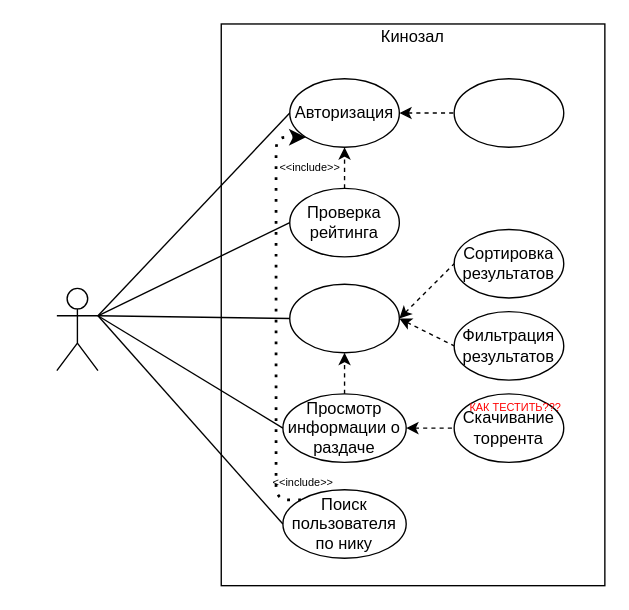
Image size: 629x610. Some labels were removed from this diagram. The shapes that lost their labels are listed below. From the top down, each one's centre as x and y in pixels, then its label:
[508,112]: Сообщение об ошибке
[76,329]: Пользователь
[343,318]: Поиск раздач
